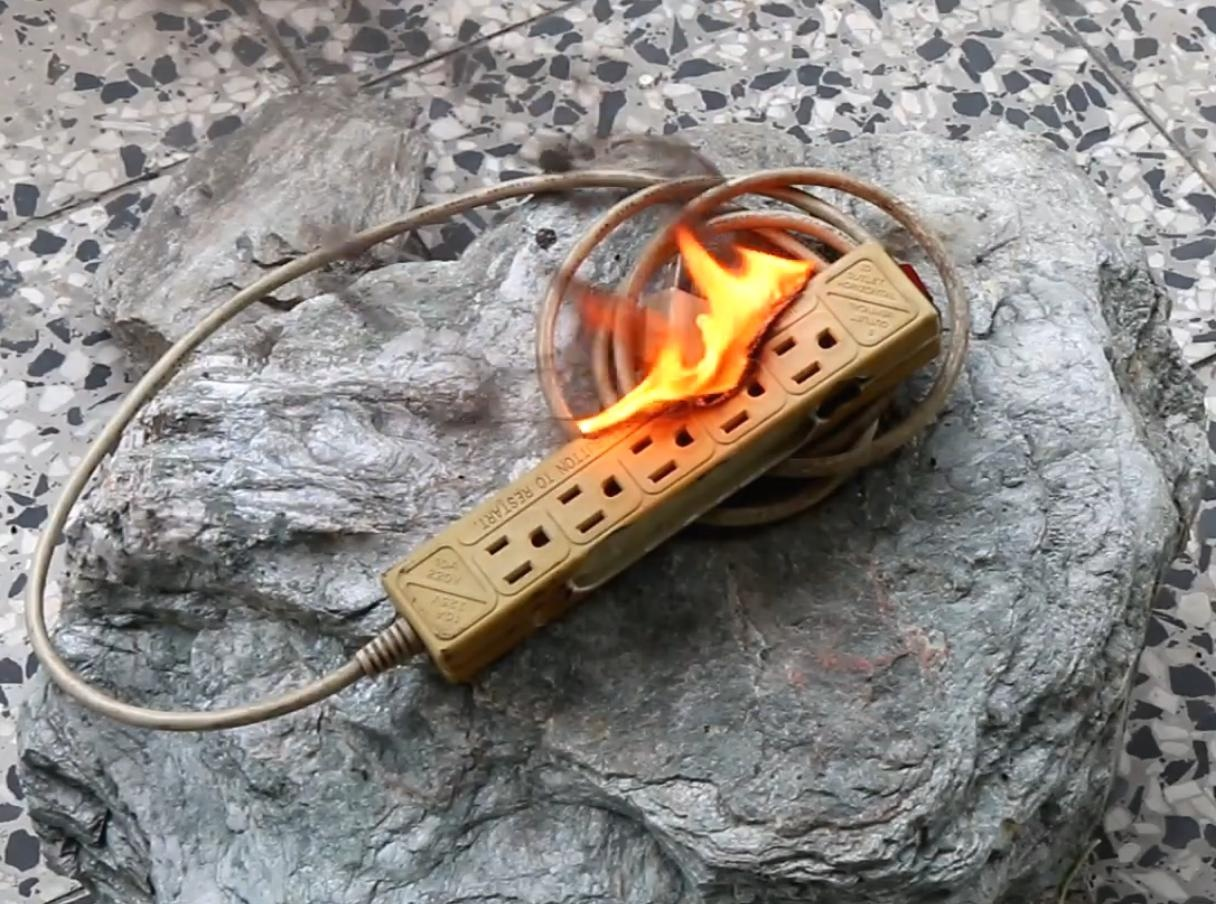fire: (555, 226, 819, 431)
